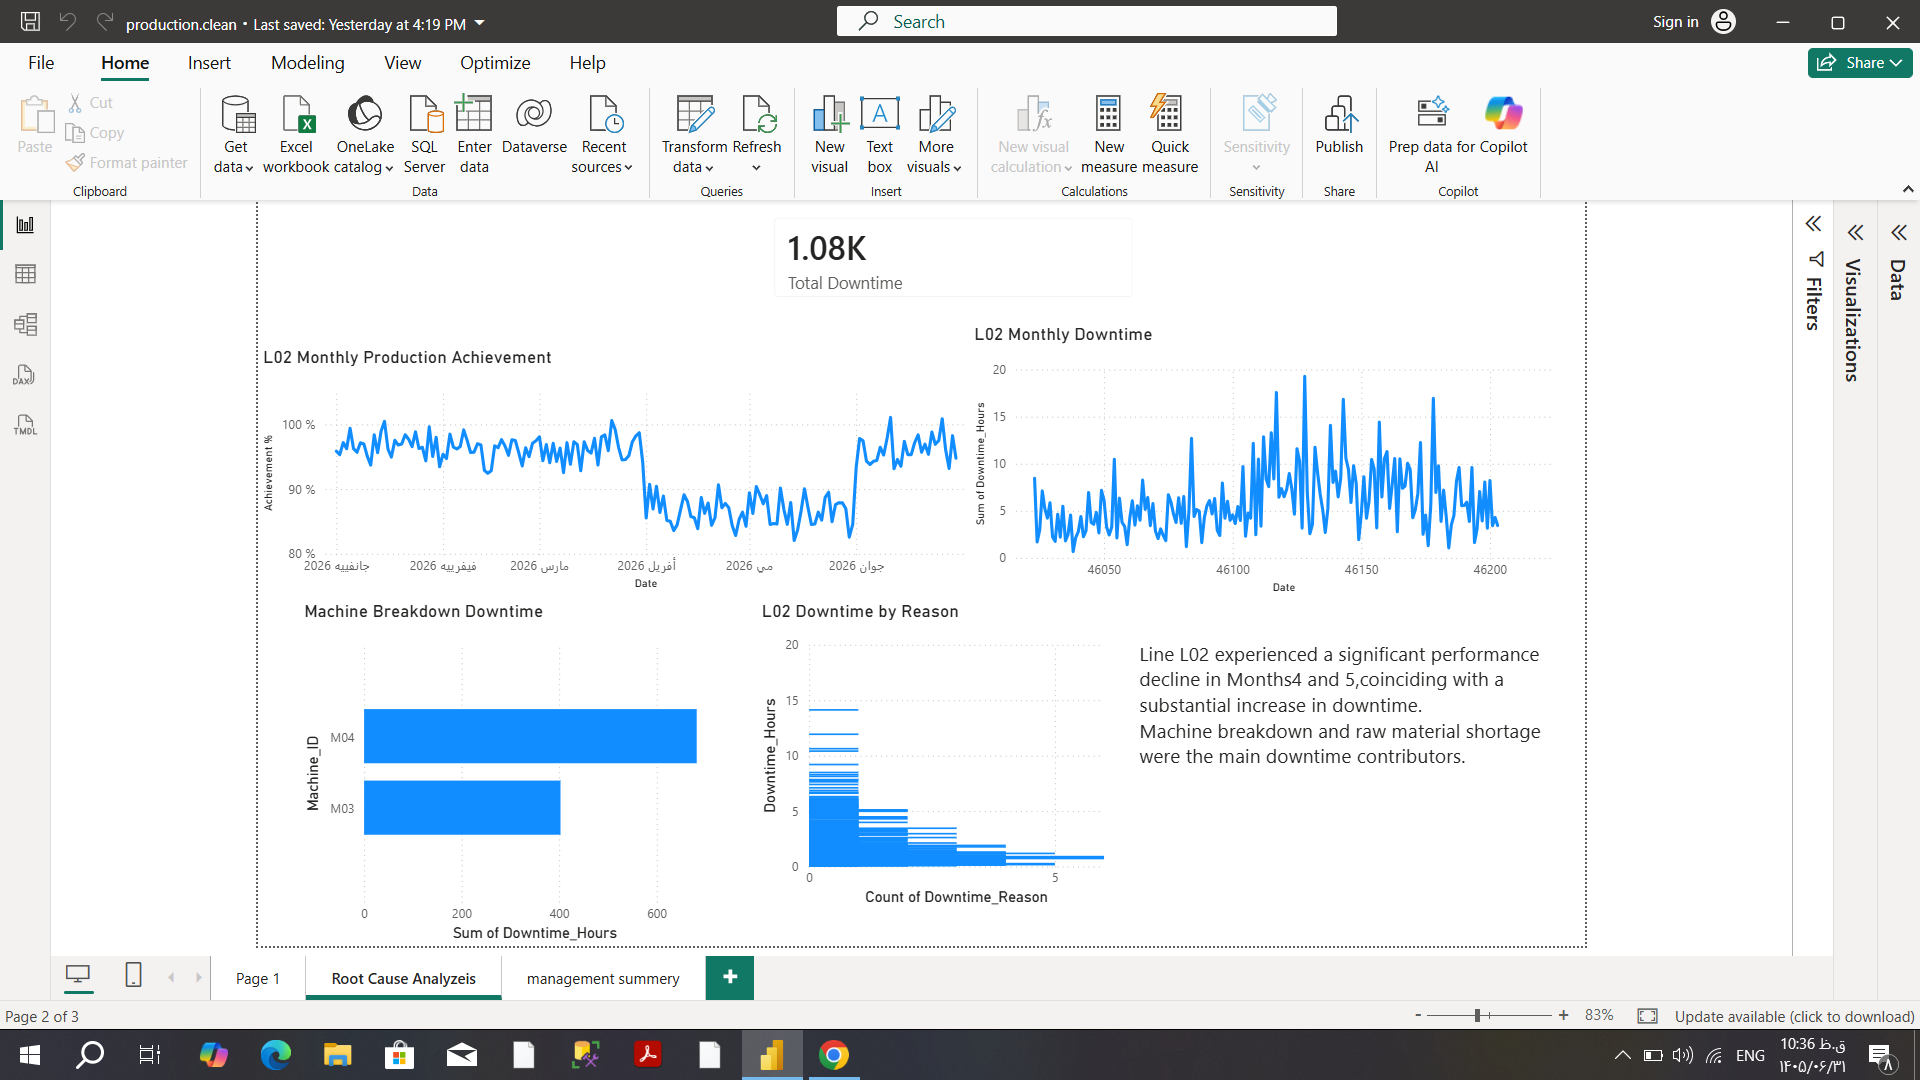

This screenshot's page, from the dashboard's own definition file:
{"tool":"powerbi","page":{"name":"Root Cause Analyzeis","canvas":[1280,720],"ordinal":1},"visuals":[{"type":"lineChart","title":"L02 Monthly Production Achievement","fields":{"Category":["DateTable.Date"],"Y":["Production.Achievement %"]},"box":[0,141.5,705.9,240.1],"z":0},{"type":"lineChart","title":"L02 Monthly Downtime","fields":{"Y":["Sum(Downtime.Downtime_Hours)"],"Category":["Downtime.Date"]},"box":[685.9,120,574.4,265.8],"z":1000},{"type":"clusteredBarChart","title":"L02 Downtime by Reason","fields":{"Category":["Downtime.Downtime_Hours"],"Y":["CountNonNull(Downtime.Downtime_Reason)"]},"box":[481.5,385.8,344.4,300.1],"z":2000},{"type":"cardVisual","title":"L02 Total Downtime(Hour)","fields":{"Data":["Production.Total Downtime"]},"box":[481.5,0,380.1,111.5],"z":3000},{"type":"clusteredBarChart","title":"Machine Breakdown Downtime","fields":{"Category":["Downtime.Machine_ID"],"Y":["Sum(Downtime.Downtime_Hours)"]},"box":[40,385.8,407.2,334.4],"z":4000},{"type":"textbox","box":[845.9,420.1,434.4,217.2],"z":5000}]}

Visuals, with their boxes on the page's 1280x720 design canvas (x1, y1, x2, y2). These are canvas units, not pixel positions in the 1920x1080 screenshot, which may show the page scaled, cropped or inside an application window:
"L02 Monthly Production Achievement" lineChart: left=0, top=142, right=706, bottom=382
"L02 Monthly Downtime" lineChart: left=686, top=120, right=1260, bottom=386
"L02 Downtime by Reason" clusteredBarChart: left=482, top=386, right=826, bottom=686
"L02 Total Downtime(Hour)" cardVisual: left=482, top=0, right=862, bottom=112
"Machine Breakdown Downtime" clusteredBarChart: left=40, top=386, right=447, bottom=720
textbox: left=846, top=420, right=1280, bottom=637
